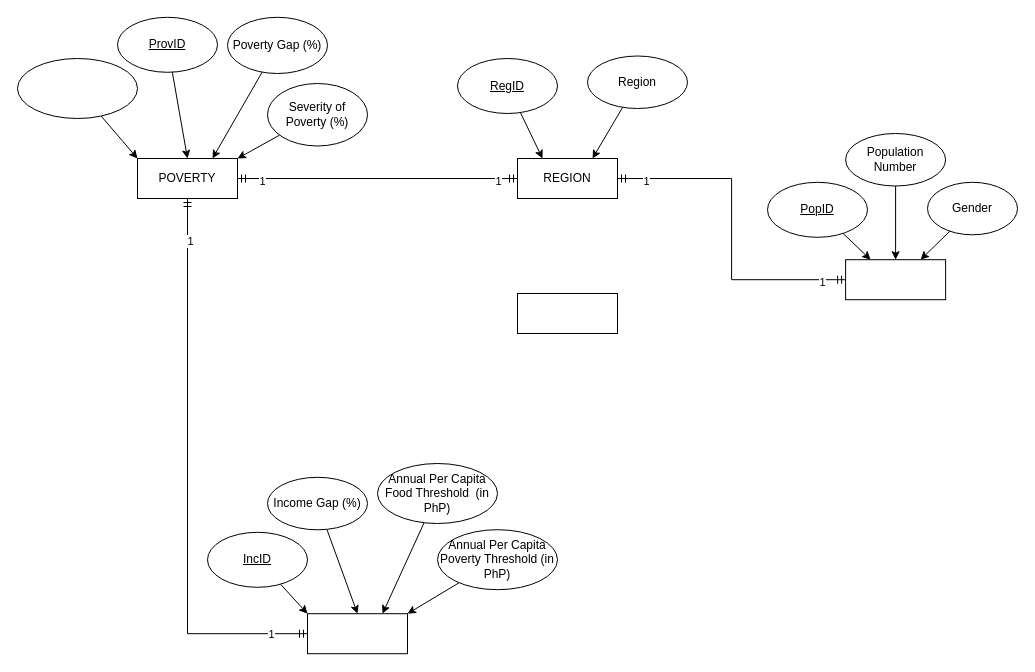
The diagram is 1035 pixels wide and 672 high, and some of its shapes have lost their labels. Here are the shapes that lost their labels. From the top down, the box of each, then its label:
(16, 58, 138, 118): Poverty Incidence among Population (%)
(845, 259, 946, 300): POPULATION
(516, 292, 618, 334): EMPLOYMENT
(306, 613, 408, 654): INCOME
